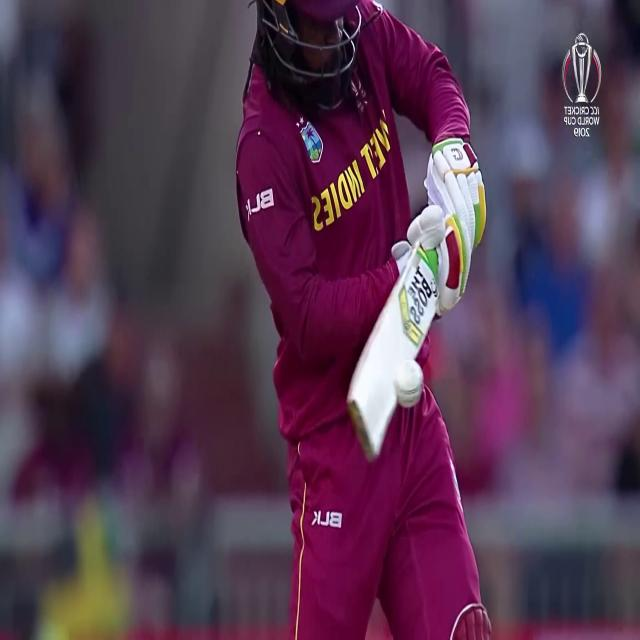ball: (395, 359, 422, 407)
